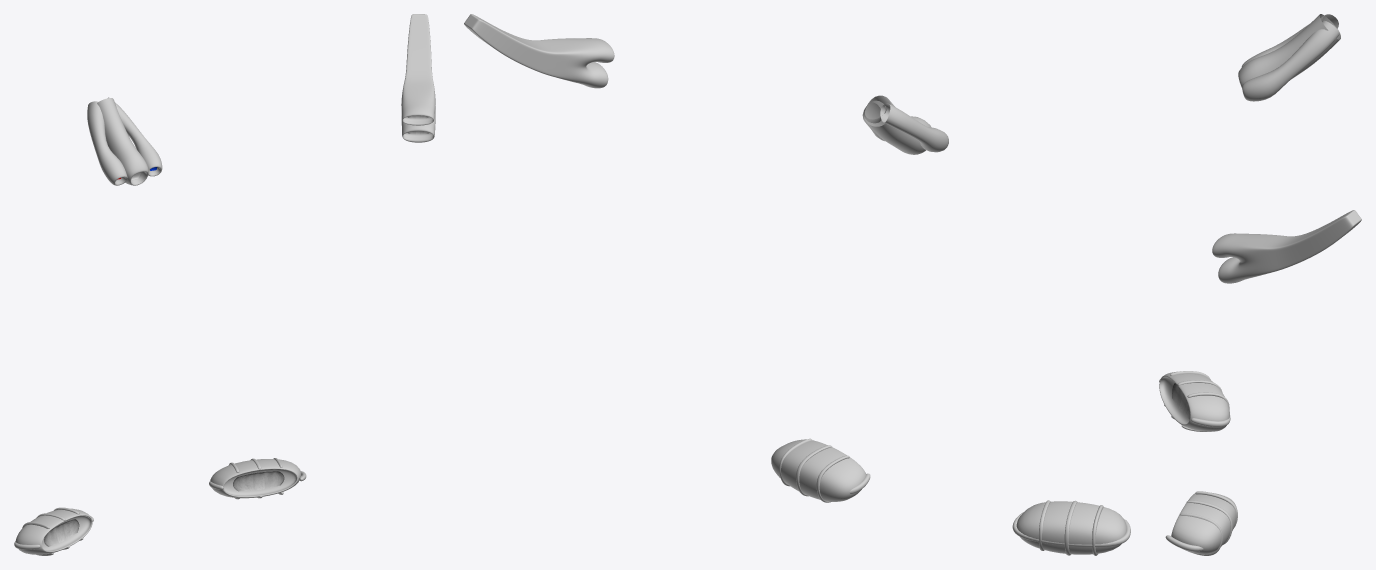
Rendered from SM_HUD_00.fbx.
3 views of the same model, side by side, from view 1: azimuth 30°, elevation 25°; view 2: azimuth 150°, elevation 25°; view 3: azimuth 270°, elevation 25° (orthographic). The views are drawn at different scales.
Visible parts, largest first — view 1: SM_MatchPoints_00, SM_FPS_Counter_00, SM_BulletCounter_R_00, SM_BulletCounter_L_00; view 2: SM_BulletCounter_L_00, SM_FPS_Counter_00, SM_BulletCounter_R_00, SM_MatchPoints_00; view 3: SM_FPS_Counter_00, SM_MatchPoints_00, SM_BulletCounter_L_00, SM_BulletCounter_R_00.
Boxes of the visible parts, x1,y1,x2,y2 form: SM_MatchPoints_00: (87,97,162,185); SM_FPS_Counter_00: (401,14,435,142); SM_BulletCounter_R_00: (209,458,306,499); SM_BulletCounter_L_00: (14,507,93,555); SM_BulletCounter_L_00: (1012,500,1130,555); SM_FPS_Counter_00: (464,14,614,88); SM_BulletCounter_R_00: (771,438,870,502); SM_MatchPoints_00: (862,95,948,154); SM_FPS_Counter_00: (1212,210,1361,283); SM_MatchPoints_00: (1238,14,1340,101); SM_BulletCounter_L_00: (1159,371,1230,431); SM_BulletCounter_R_00: (1165,491,1237,555).
Size of the model in its own units: 1505 by 1162 by 455.
